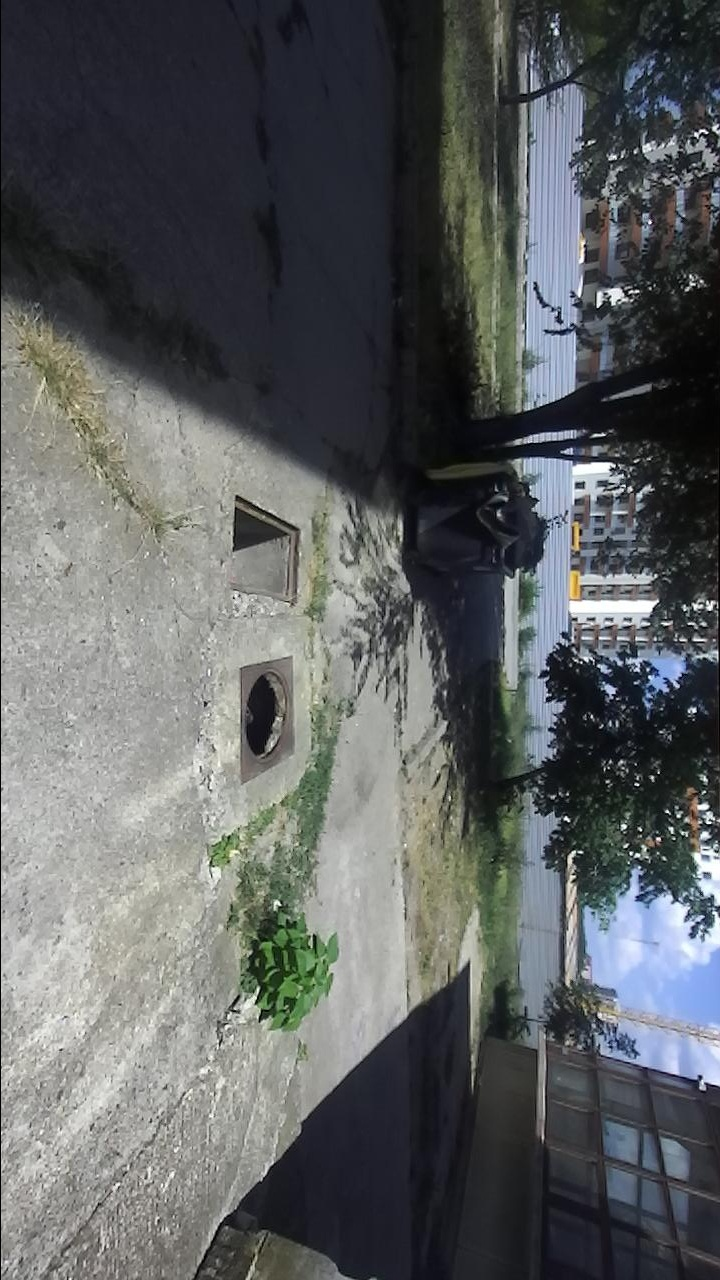drain: (227, 490, 302, 609), (245, 667, 297, 772)
